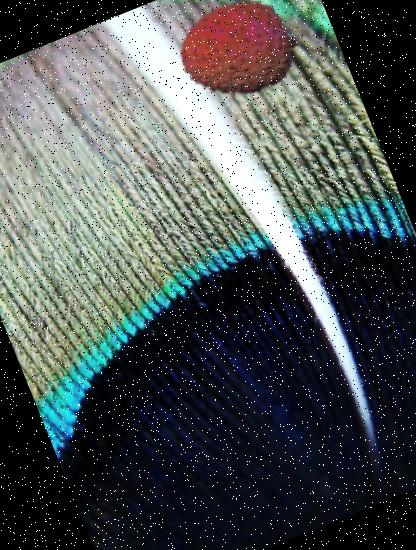Lychee: (160, 0, 320, 127)
